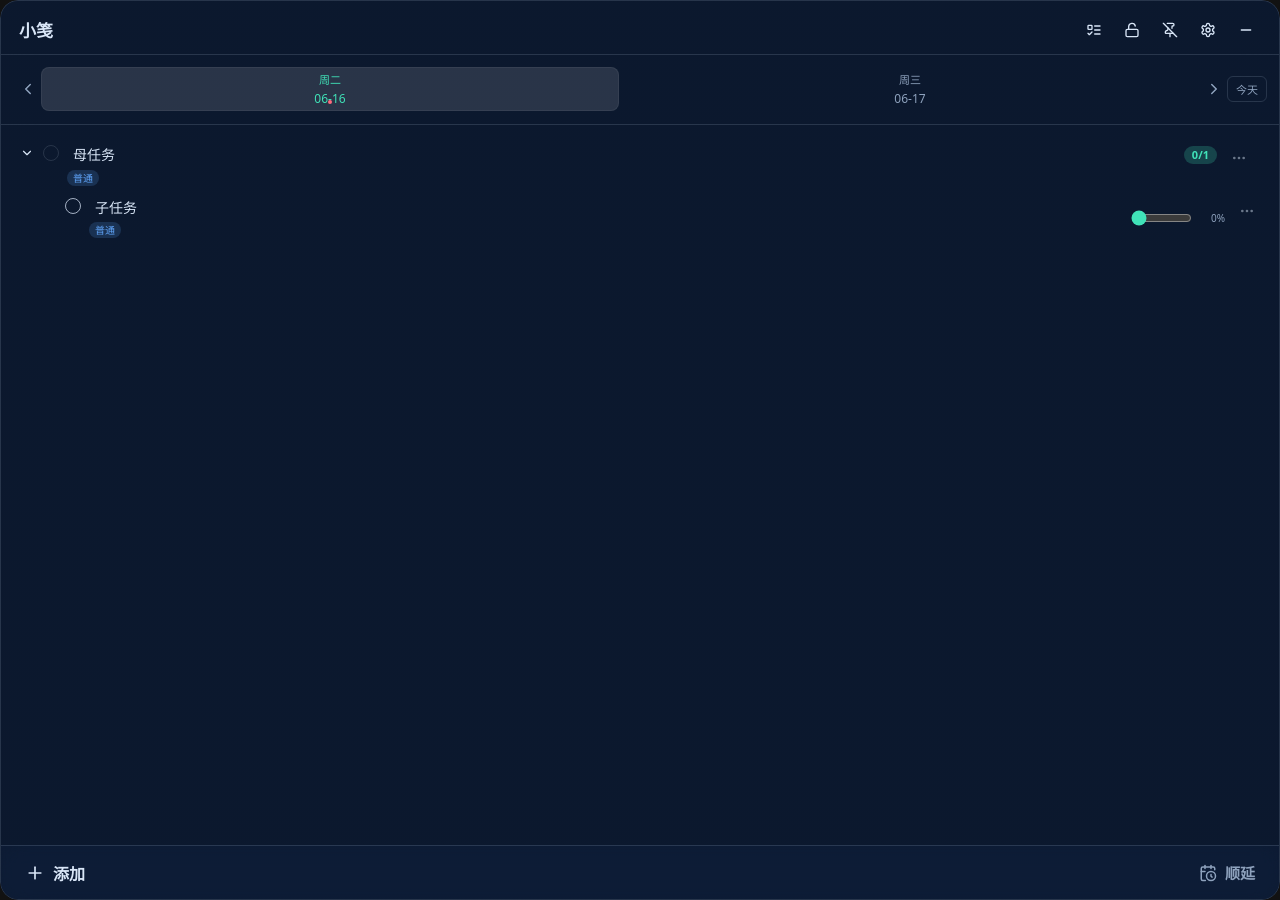
Test: MainPage display layout › collapses and expands a parent task subtree via the toggle
Expected: the button "母任务" is shown, [67,144,1176,166]
Expected: the button "子任务" is shown, [89,197,1121,218]
Note: Collapse the parent: the child disappears.
Click the button named "收起子任务" at (27, 153), box [19,144,35,162]
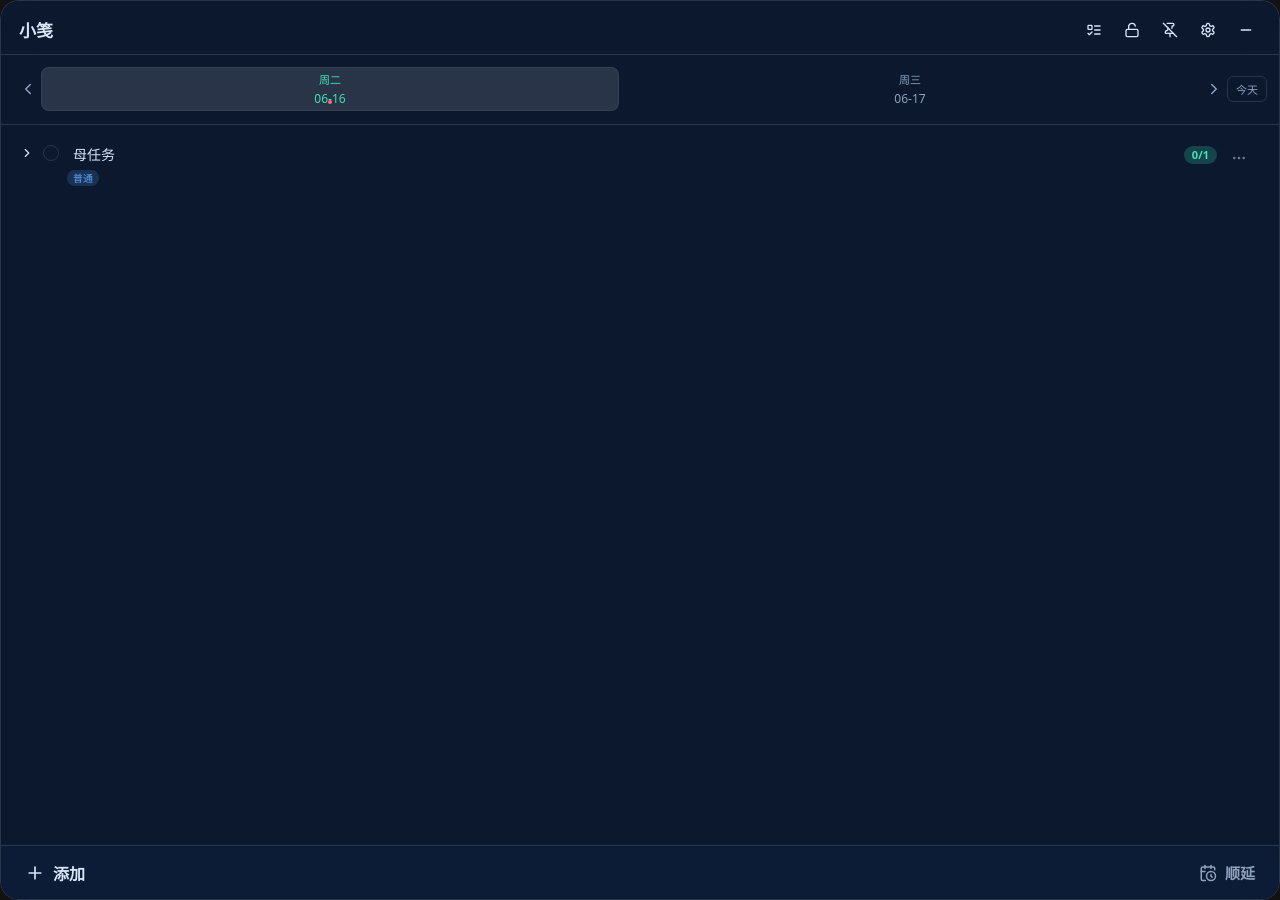
Expected: the button "母任务" is shown, [67,144,1176,166]
Result: the button "子任务" is gone
Note: Expand again: the child reappears.
Click the button named "展开子任务" at (27, 153), box [19,144,35,162]
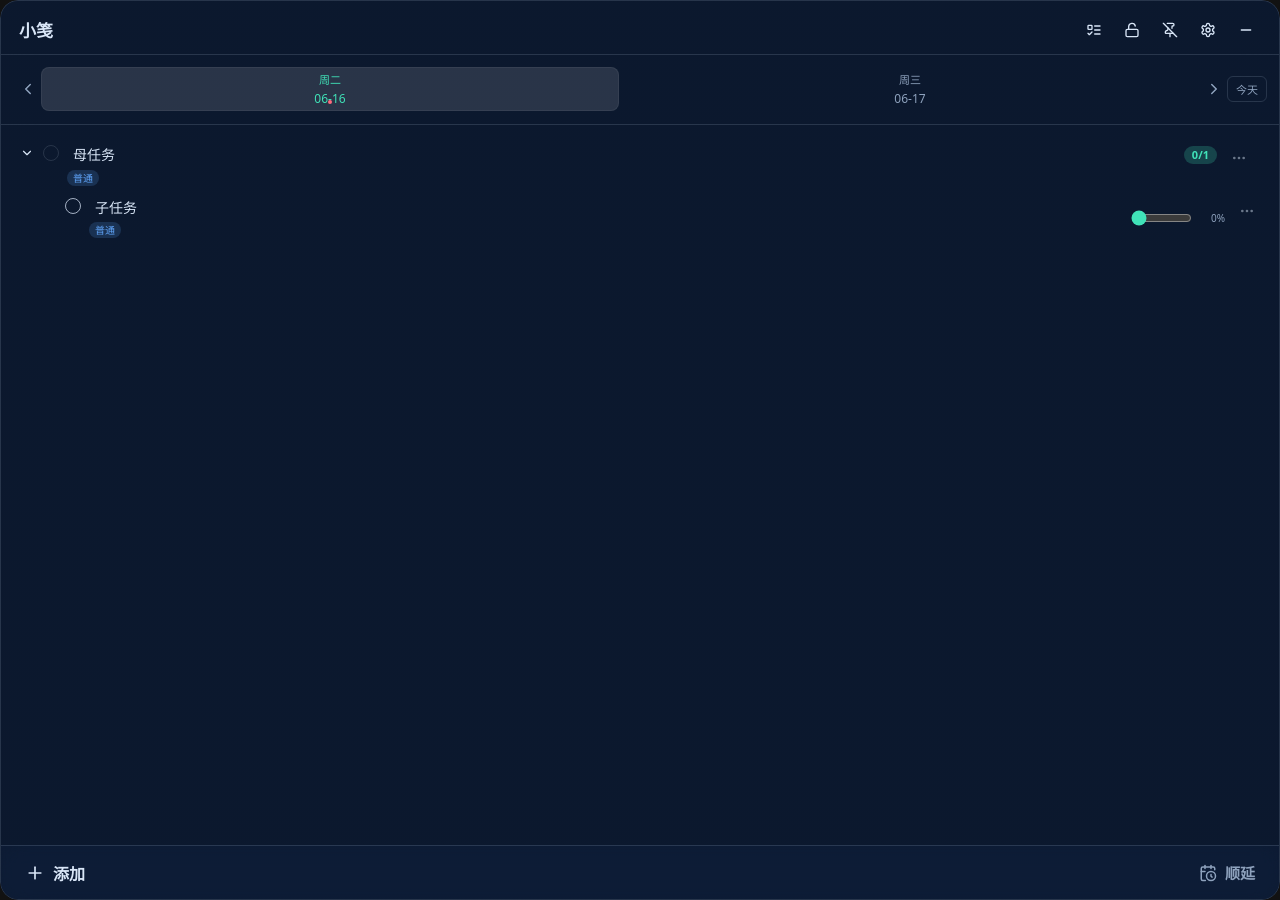
Result: the button "子任务" is shown at [89,197,1121,218]
